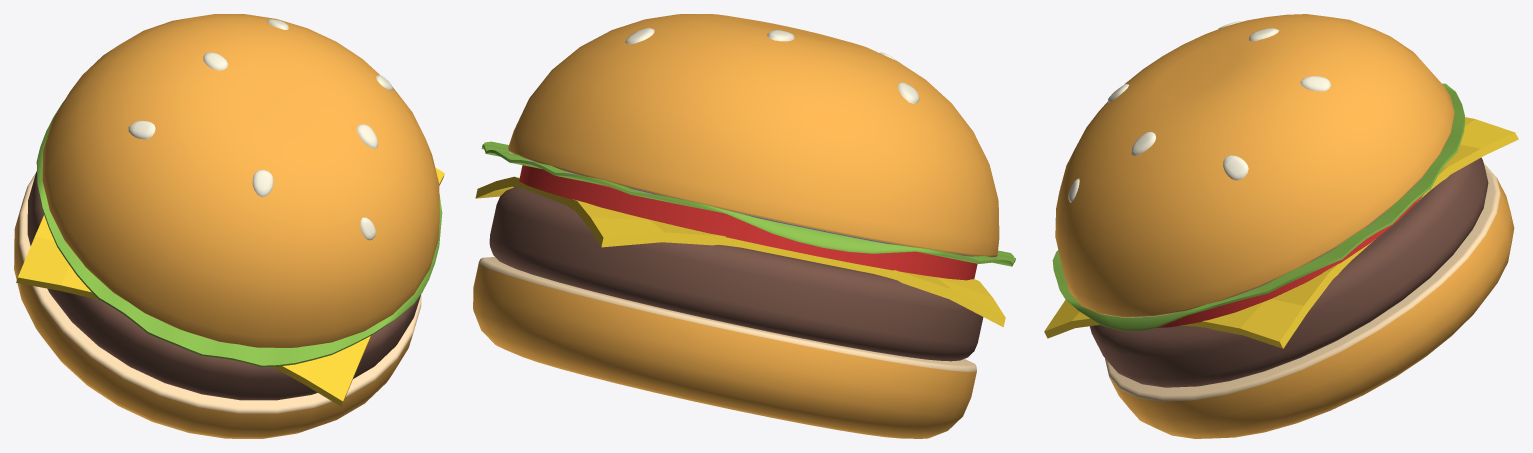
The model's file is hamburger.fbx.
The picture shows the model from 3 angles, left to right: view 1: azimuth 30°, elevation 25°; view 2: azimuth 150°, elevation 25°; view 3: azimuth 270°, elevation 25°; orthographic projection. The views are drawn at different scales.
Parts seen in each view (by area): view 1: Circle.2209; view 2: Circle.2209; view 3: Circle.2209.
Boxes of the visible parts, x1,y1,x2,y2 form: Circle.2209: (14, 14, 444, 438); Circle.2209: (473, 14, 1015, 438); Circle.2209: (1044, 14, 1518, 438).
Bounding box in the file's own units: 238 × 184 × 218.
Materials: 1 (1 with a texture image).
